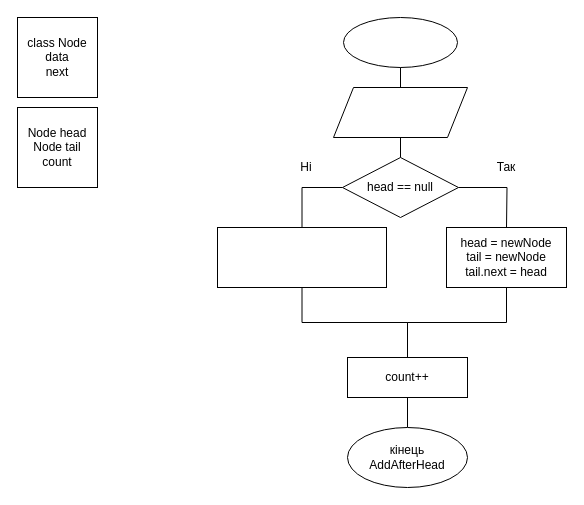
Some shapes in this 584 by 505 pixel diagram are drawn without their labels. Here are the shapes that lost their labels. From the top down, the centre of each, then its label:
At point 400,42: "початок AddAfterHead".
At point 400,112: "newNode".
At point 301,257: "newNode.next = head.next head.next = newNode".
